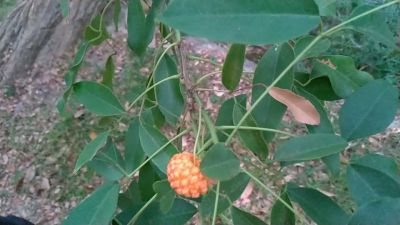eggs: (163, 147, 217, 200)
